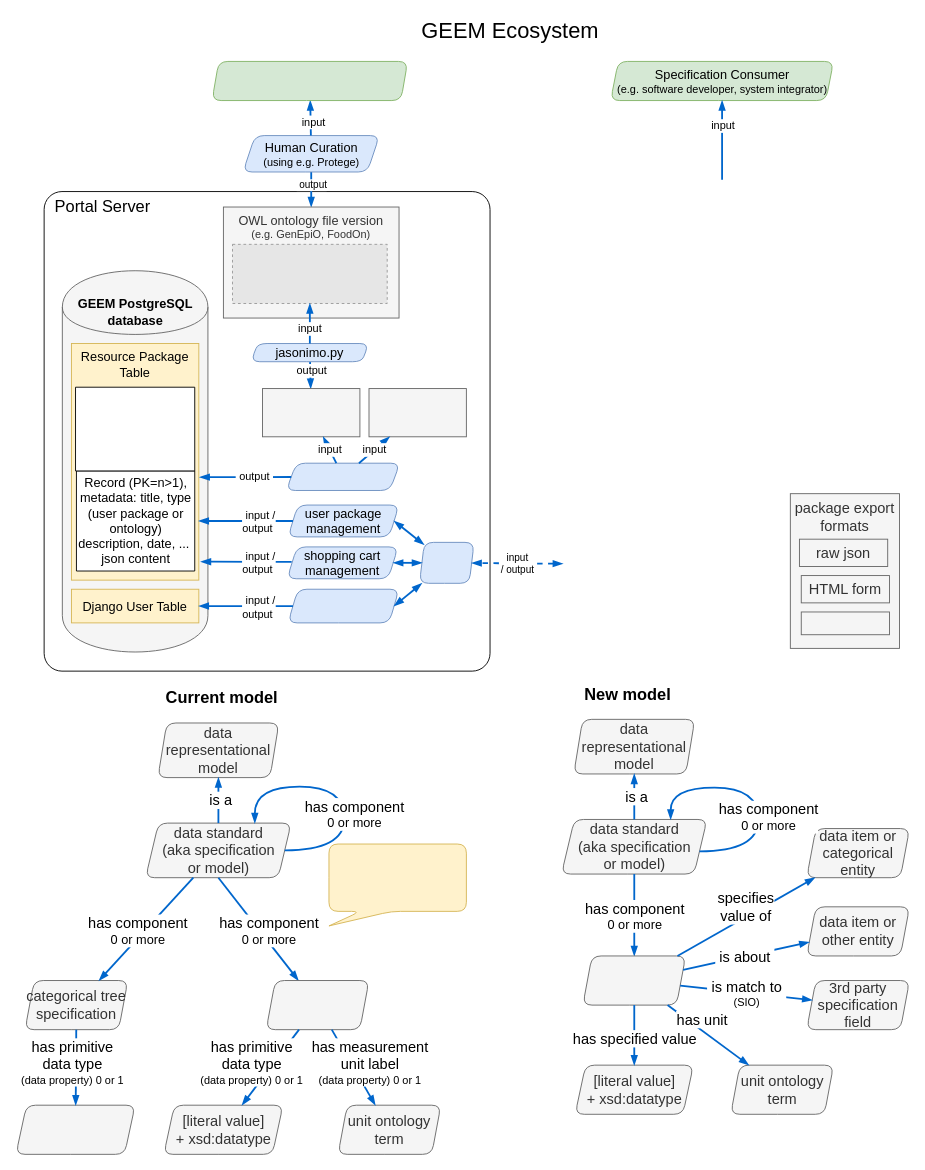
Image size: 925x1170. Some labels were removed from this diagram. Grey dashed boxes stand in for pictures. Here are the shapes that lost their labels. From the top down, the box of each, then its label:
(211, 61, 408, 101): Ontology Curator (e.g. Hsiao Lab or other agency staff)
(75, 386, 195, 471): New Record Template (PK=1) metadata: title, description, date, ... json content
(262, 388, 360, 437): GEEM ontology package file
(368, 388, 466, 437): GEEM package backup file
(285, 462, 400, 490): manage.py
(419, 541, 474, 583): Django API
(287, 588, 399, 623): Django OAuth2 authentication
(800, 611, 890, 635): tabular
(328, 843, 466, 926): 3rd party field specifications are annotated onto this relation
(582, 955, 686, 1005): value specification
(265, 980, 369, 1030): data item
(15, 1104, 135, 1154): [URL] + xsd:anyURI
